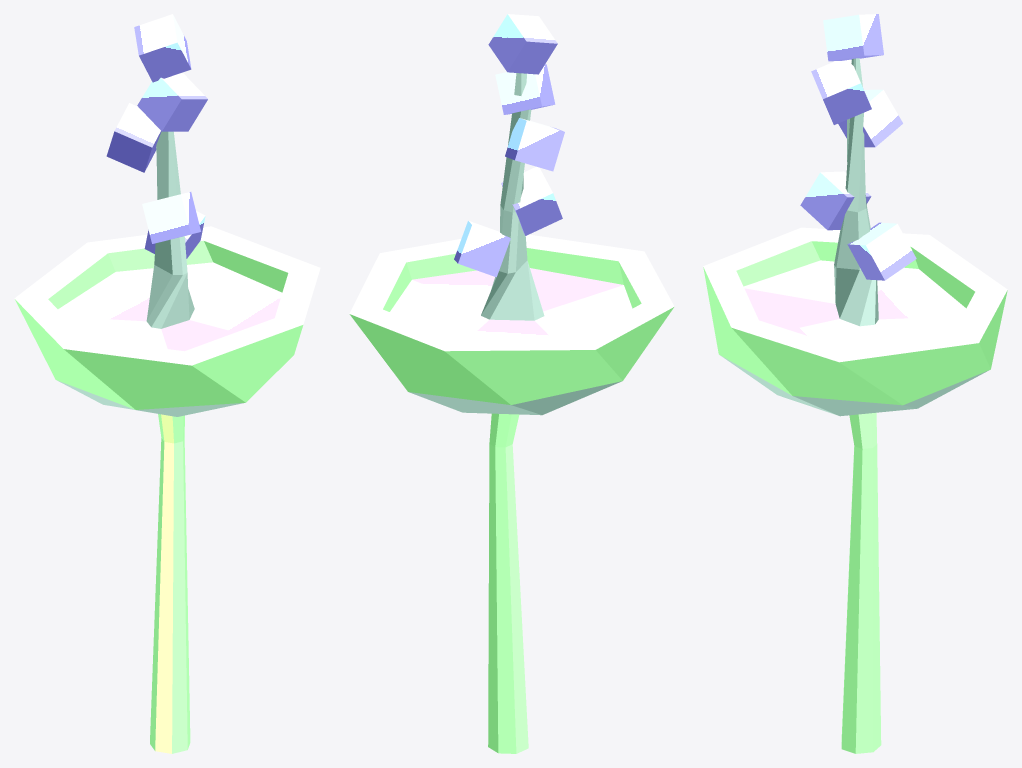
The model's file is fountain.glb.
3 renders of one model, left to right at view 1: azimuth 30°, elevation 25°; view 2: azimuth 150°, elevation 25°; view 3: azimuth 270°, elevation 25°, orthographic.
Parts seen in each view (by area): view 1: Cylinder, Cube.004, Cube, Cube.001, Cube.002, Cube.003; view 2: Cylinder, Cube, Cube.001, Cube.003, Cube.002, Cube.004; view 3: Cylinder, Cube.003, Cube, Cube.004, Cube.002, Cube.001.
Part boxes in pixels (x1,y1,x2,y2): Cylinder: (14,131,320,753); Cube.004: (137,73,207,131); Cube: (134,14,191,82); Cube.001: (106,103,161,172); Cube.002: (142,192,200,243); Cube.003: (144,211,205,258); Cylinder: (349,73,674,753); Cube: (488,14,557,74); Cube.001: (505,118,564,171); Cube.003: (454,220,510,277); Cube.002: (501,166,562,235); Cube.004: (495,64,555,114); Cylinder: (703,58,1007,753); Cube.003: (847,222,916,280); Cube: (823,14,883,61); Cube.004: (811,59,871,124); Cube.002: (800,171,871,230); Cube.001: (838,89,902,147).
Size of the model in its own units: 6.27 by 15.86 by 5.99.
